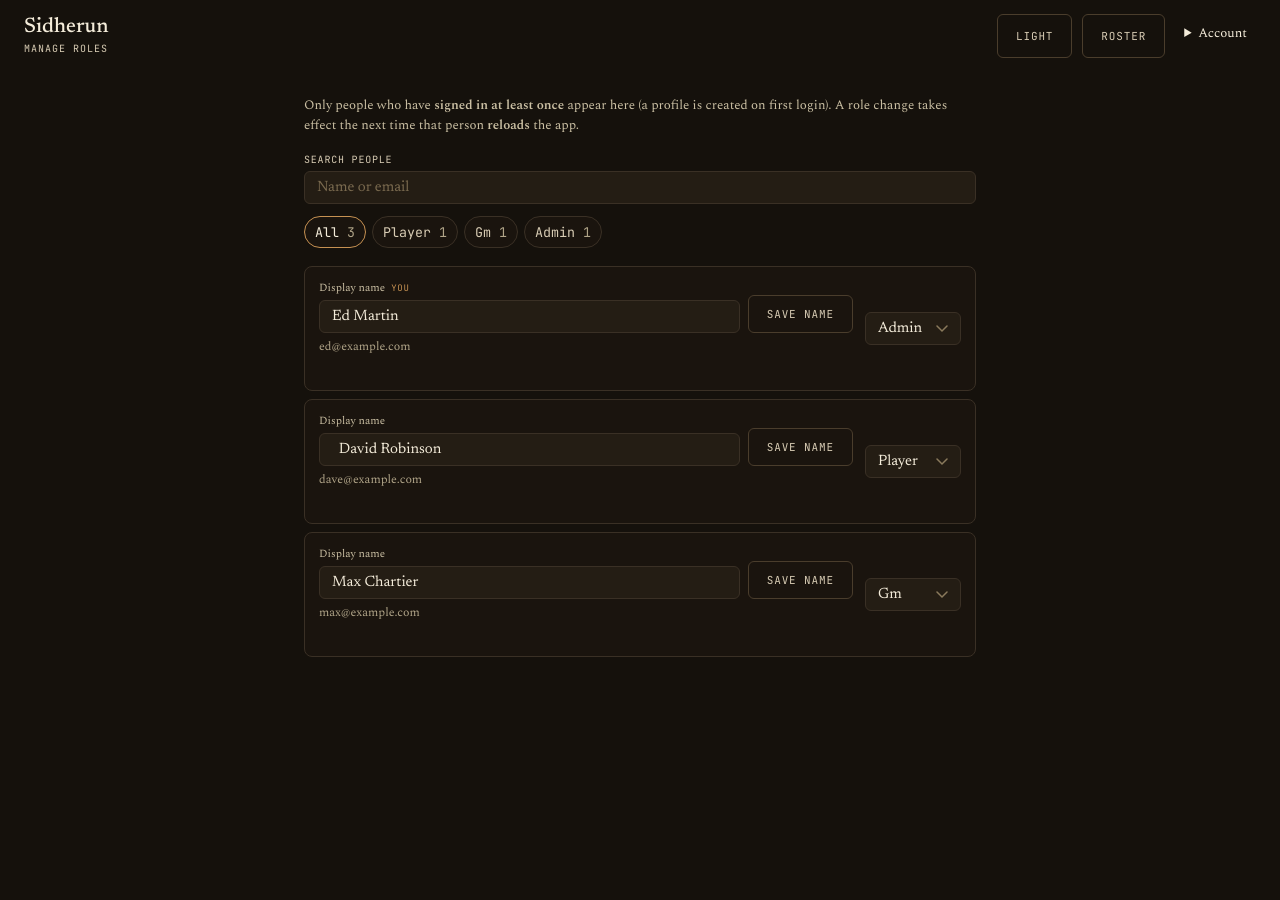
Test: AdminRoles › persists a trimmed display name
Replace the text in the field named "Display name for Dave Robinson" with "  David Robinson  " at {"x": 529, "y": 450}, box [319,433,740,466]
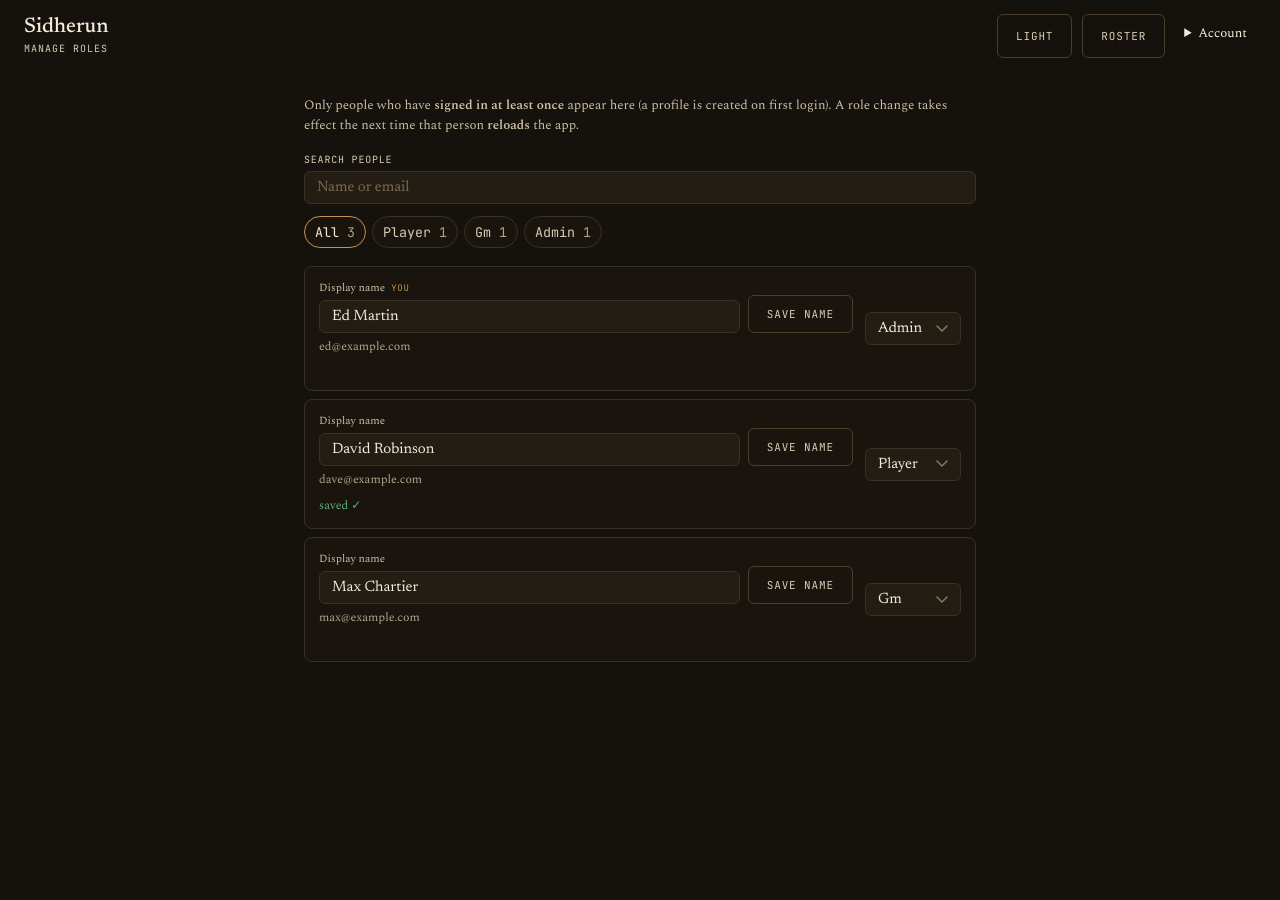
Check: the list item named "Display name for Dave Robinson" shows "saved ✓", box [319,496,361,515]
